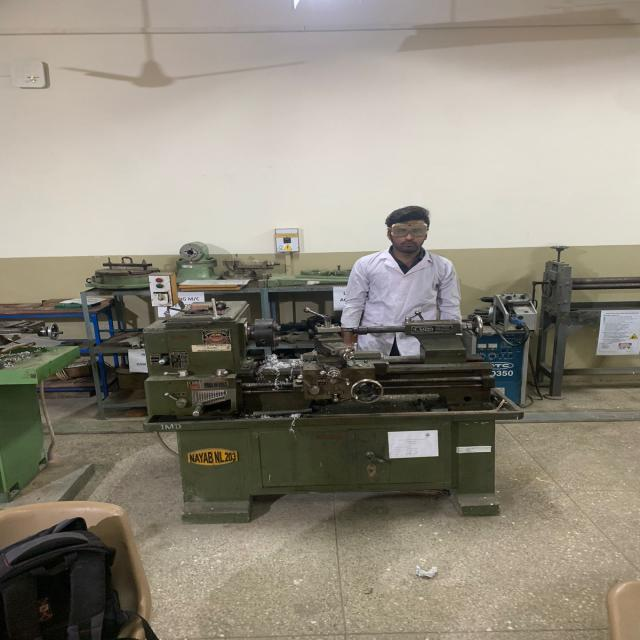googles: (385, 218, 430, 238)
labcoat: (340, 241, 463, 357)
